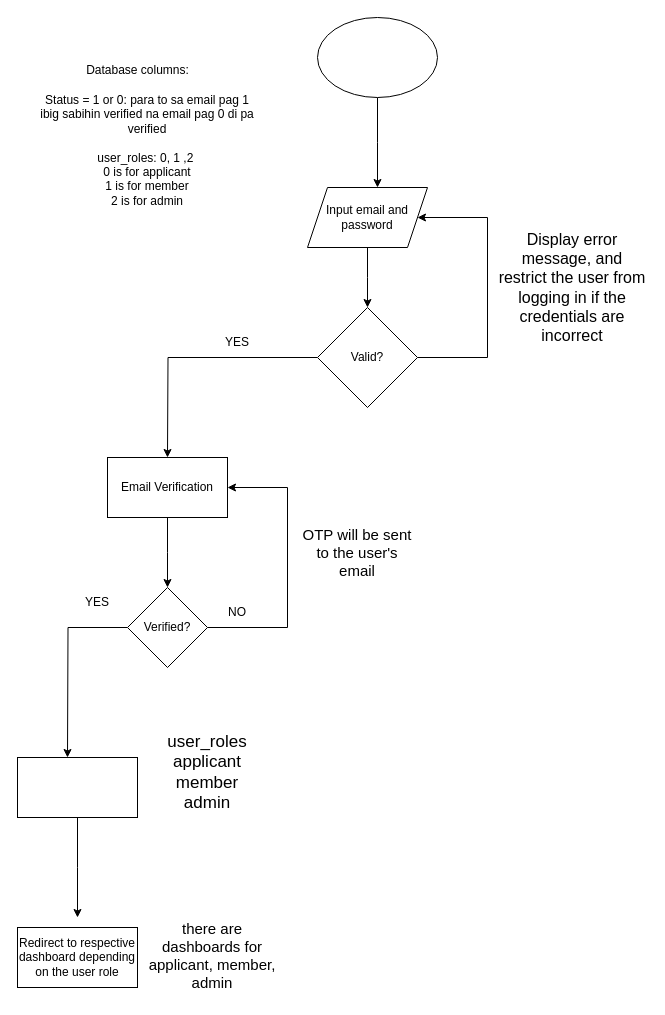
This 665x1015 diagram has some shape labels left out. The centre of each missing label's shape, as x and y in pixels:
"Start" belongs at (x=377, y=57).
"Verify user_role" belongs at (x=77, y=787).
